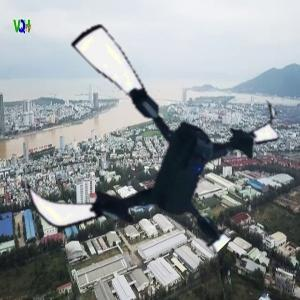drone: (18, 20, 273, 275)
